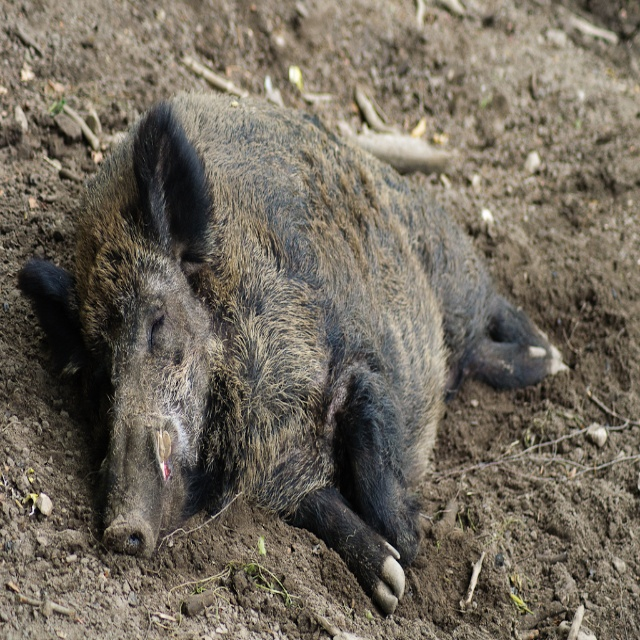Pig: (15, 84, 571, 616)
